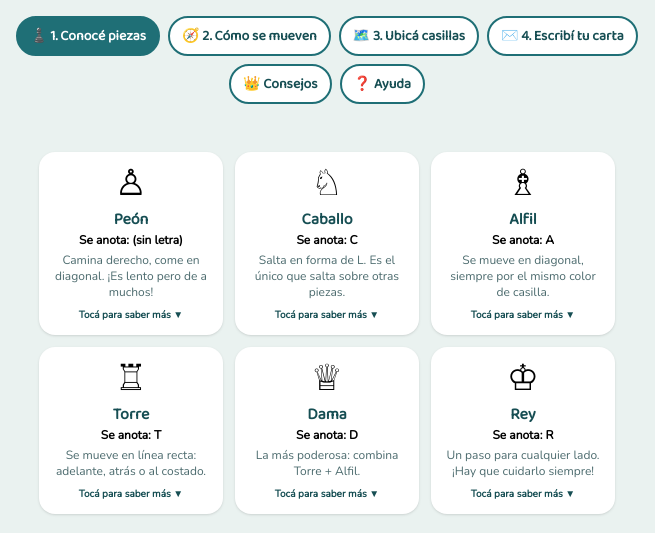
Test: App — link cruzado entre 'Conocé piezas' y 'Cómo se mueven' › desde 'Cómo se mueven', volver a 'Conocé piezas' deja esa pieza expandida
The width and height of the screenshot is (655, 533).
Click the button "🧭 2. Cómo se mueven" at [249, 36], box top-left (168, 16), bottom-right (331, 56)
(page scrolled)
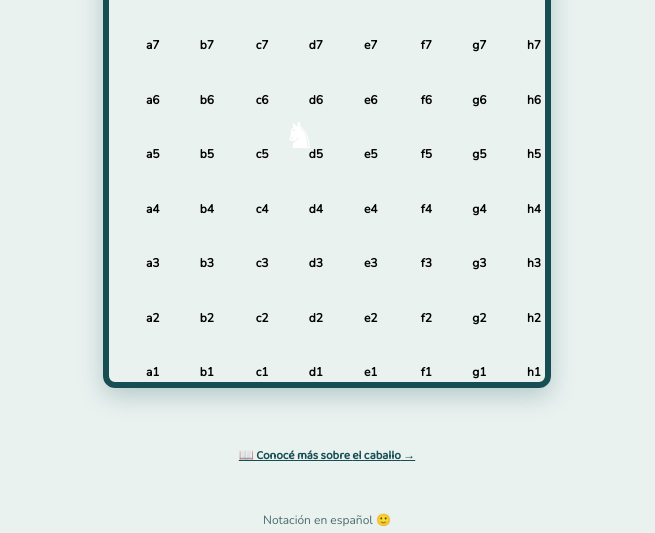
// Nivel 3 (Cómo se mueven) arranca con el Caballo seleccionado por defecto.
Click the button "📖 Conocé más sobre el caballo →" at [327, 456], box top-left (239, 448), bottom-right (415, 464)
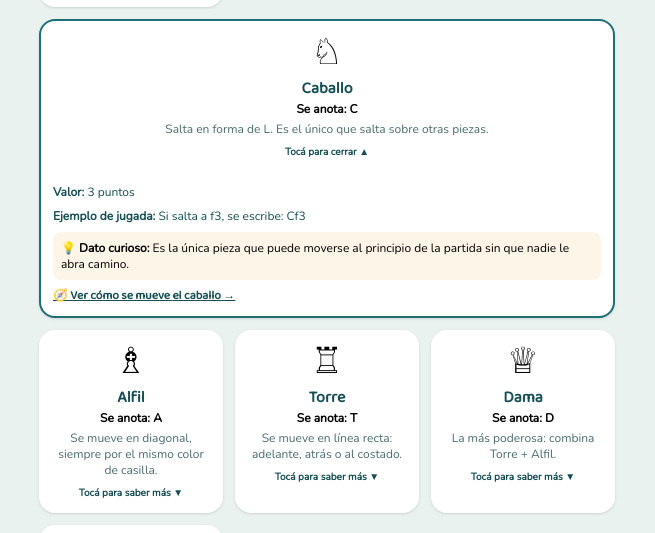
expect the text "Valor:" is shown: met, box top-left (53, 184), bottom-right (87, 200)
expect the text "Valor: 3 puntos" is shown: met, box top-left (53, 184), bottom-right (135, 200)
